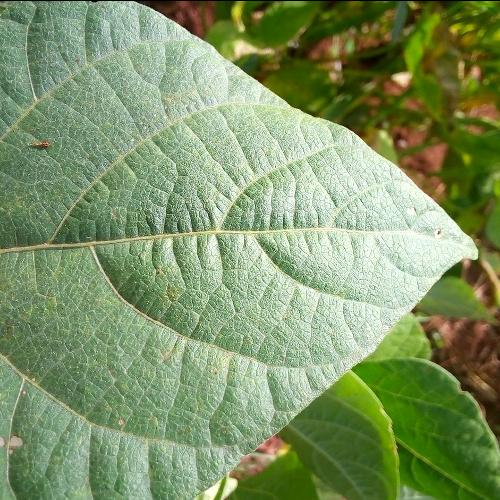embun tepung: (14, 161, 365, 322), (46, 354, 224, 470), (90, 82, 235, 142)
